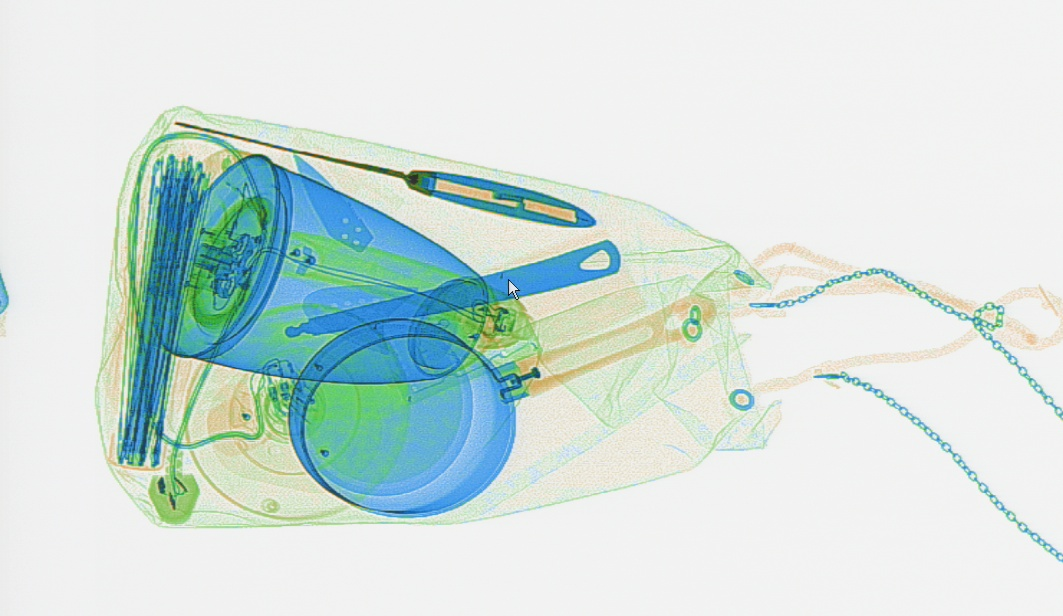knife: (172, 118, 596, 229), (291, 152, 373, 252)
